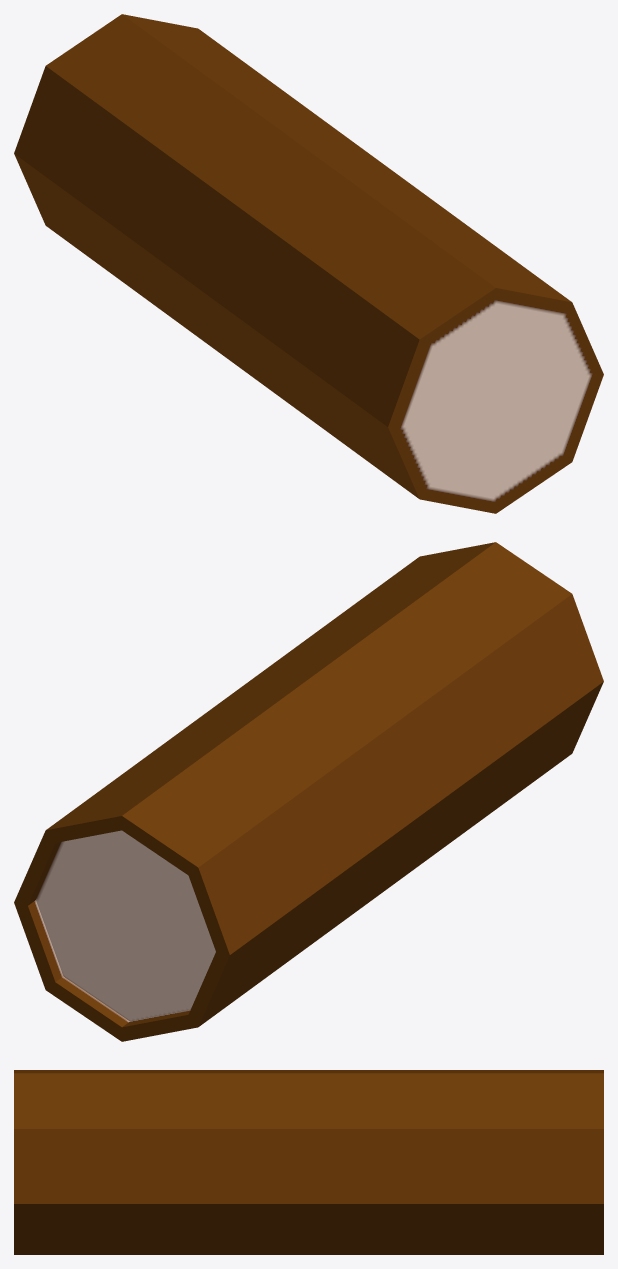
The model's file is Log.fbx.
3 renders of one model, top to bottom at view 1: azimuth 30°, elevation 25°; view 2: azimuth 150°, elevation 25°; view 3: azimuth 270°, elevation 25°, orthographic. The views are drawn at different scales.
Visible parts, largest first — view 1: Log; view 2: Log; view 3: Log.
Part boxes in pixels (x1,y1,x2,y2): Log: [14, 14, 603, 513]; Log: [14, 542, 603, 1041]; Log: [14, 1070, 603, 1254].
Size of the model in its own units: 50 by 50 by 150.
Materials: 2 (2 with a texture image).
